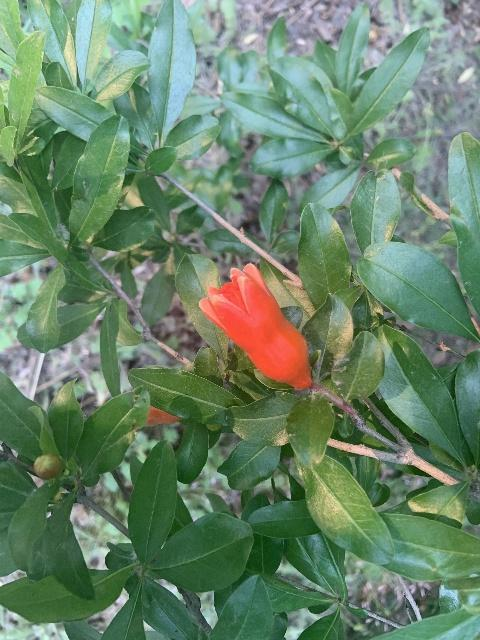bud: (33, 453, 63, 479)
flower: (197, 262, 311, 387)
